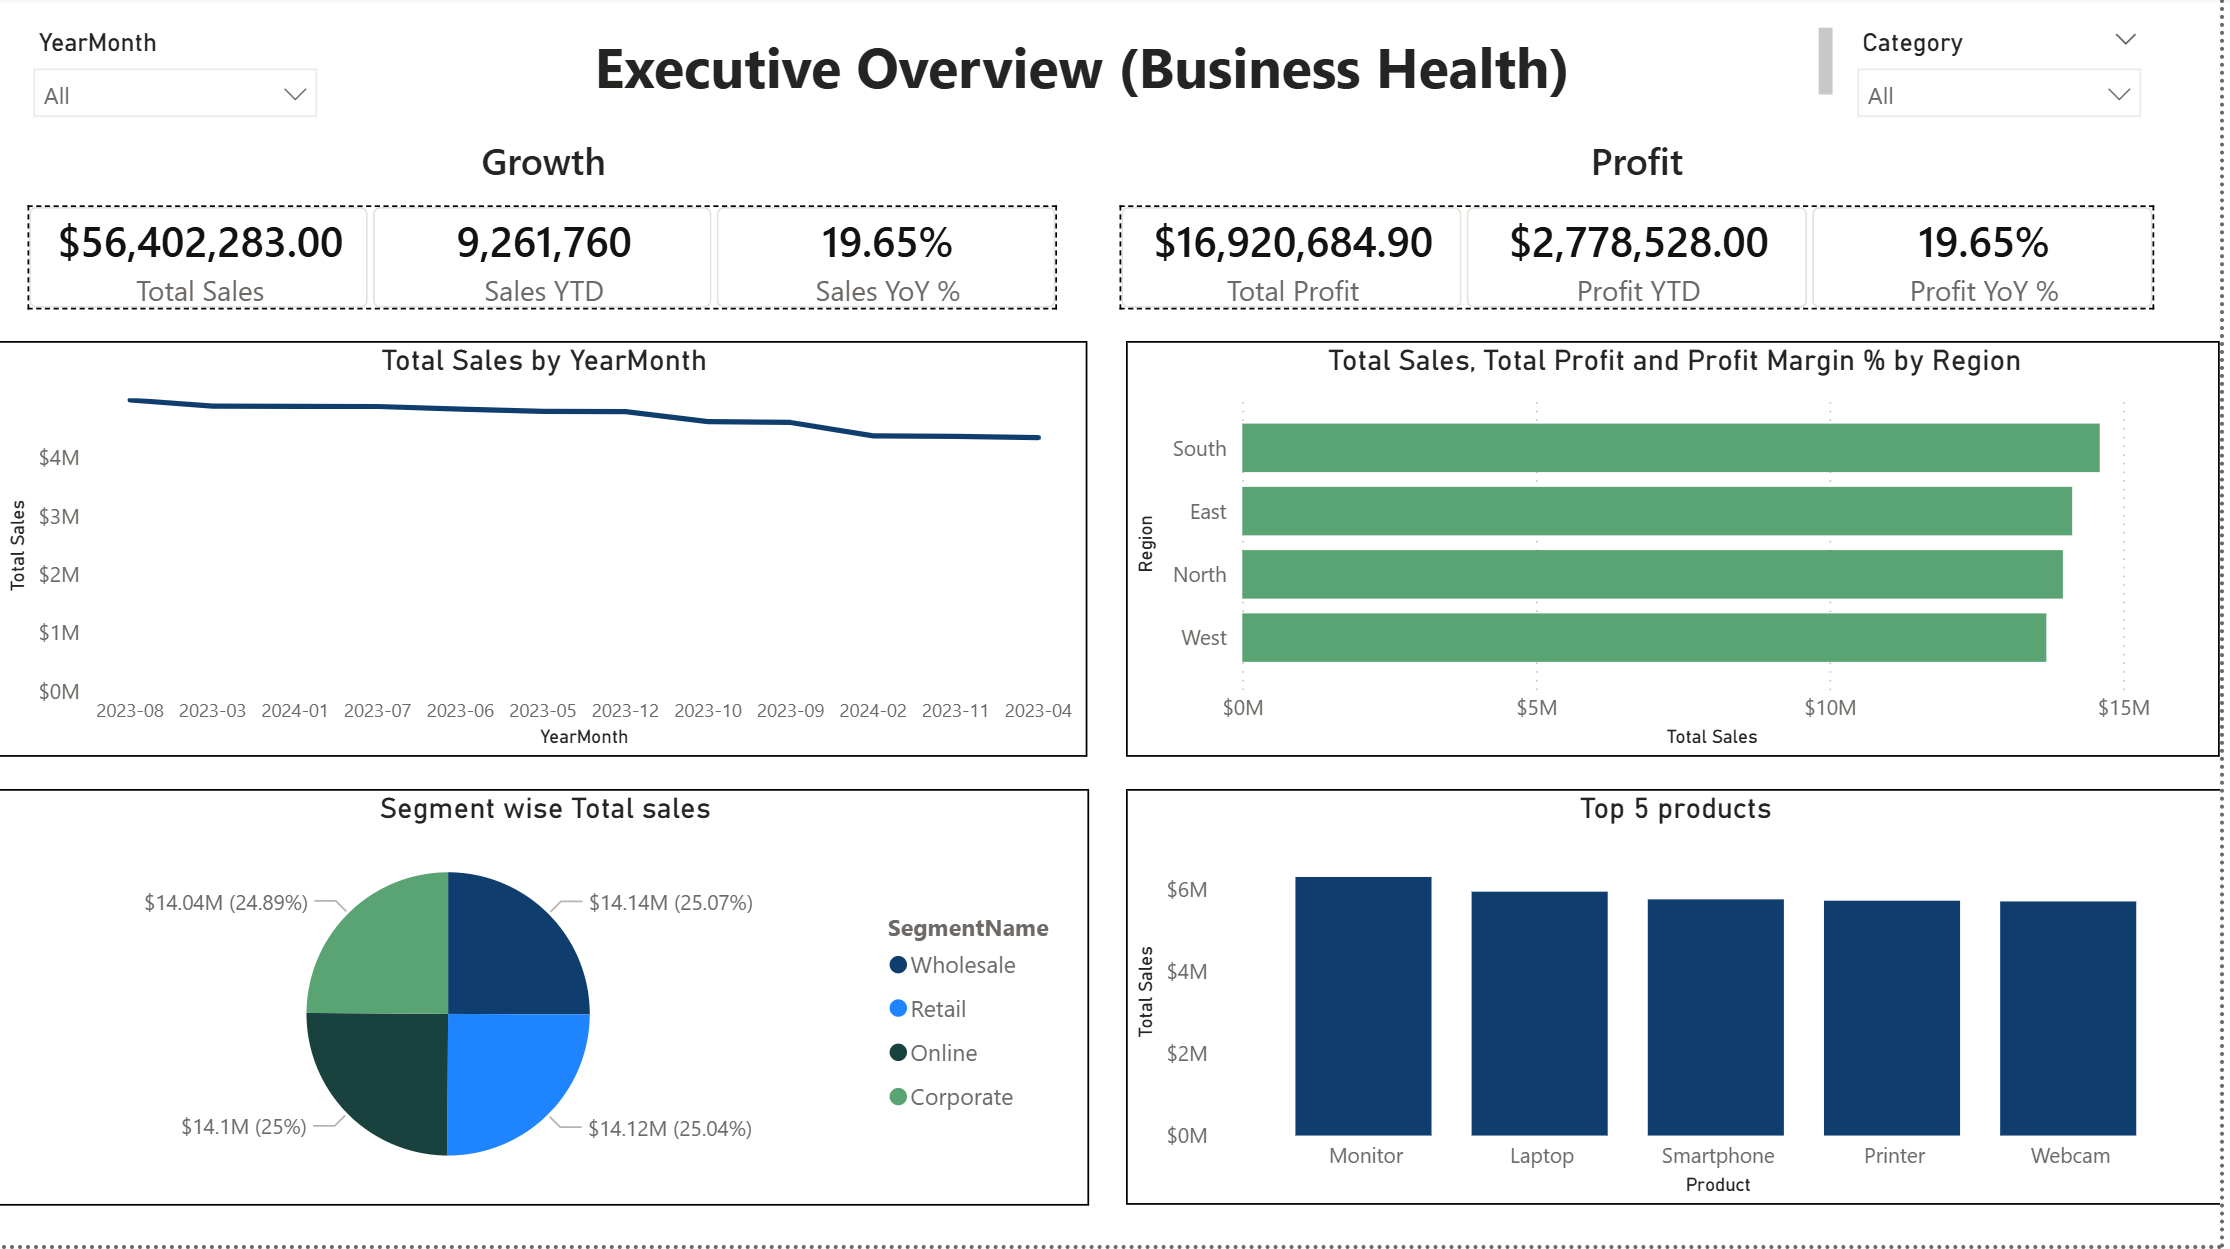

The page's visual inventory and layout, read from the dashboard file:
{"tool":"powerbi","page":{"name":"Page 1","canvas":[1280,720],"ordinal":0},"visuals":[{"type":"cardVisual","title":"Growth","fields":{"Data":["All_measures.Total Sales","All_measures.Sales YTD","All_measures.Sales YoY %"]},"box":[0,81.1,628.5,117.8],"z":0},{"type":"lineChart","fields":{"Y":["All_measures.Total Sales"],"Category":["Dim_Date.YearMonth"]},"box":[0,198.9,627.3,239.7],"z":1000},{"type":"cardVisual","title":"Profit","fields":{"Data":["All_measures.Total Profit","All_measures.Profit YTD","All_measures.Profit YoY %"]},"box":[628.5,81.1,630.1,117.8],"z":2000},{"type":"barChart","fields":{"Category":["FactSalesData.Region"],"Y":["All_measures.Total Sales"]},"box":[649.7,199.3,630.1,239.6],"z":3000},{"type":"clusteredColumnChart","title":"Top 5 products","fields":{"Category":["FactSalesData.Product"],"Y":["All_measures.Total Sales"]},"box":[649.7,457.3,631.3,239.6],"z":4000},{"type":"pieChart","title":"Segment wise Total sales","fields":{"Category":["Segments.SegmentName"],"Y":["All_measures.Total Sales"]},"box":[0,457.3,628.5,240.1],"z":5000},{"type":"slicer","fields":{"Values":["Dim_Date.YearMonth"]},"box":[10.7,13.8,183.5,67.3],"z":6000},{"type":"slicer","fields":{"Values":["FactSalesData.Category"]},"box":[1061.3,13.8,183.5,67.3],"z":7000},{"type":"textbox","box":[194.2,13.8,867.1,50.5],"z":8000}]}

Visuals, with their boxes in screenshot pixels (x1, y1, x2, y2), scaled from the page's 1280x720 canvas onto the 2230x1249 screenshot:
"Growth" cardVisual: <region>0, 141, 1095, 345</region>
lineChart - All_measures.Total Sales x Dim_Date.YearMonth: <region>0, 345, 1093, 761</region>
"Profit" cardVisual: <region>1095, 141, 2193, 345</region>
barChart - FactSalesData.Region x All_measures.Total Sales: <region>1132, 346, 2229, 761</region>
"Top 5 products" clusteredColumnChart: <region>1132, 793, 2229, 1209</region>
"Segment wise Total sales" pieChart: <region>0, 793, 1095, 1210</region>
slicer - Dim_Date.YearMonth: <region>19, 24, 338, 141</region>
slicer - FactSalesData.Category: <region>1849, 24, 2169, 141</region>
textbox: <region>338, 24, 1849, 112</region>
